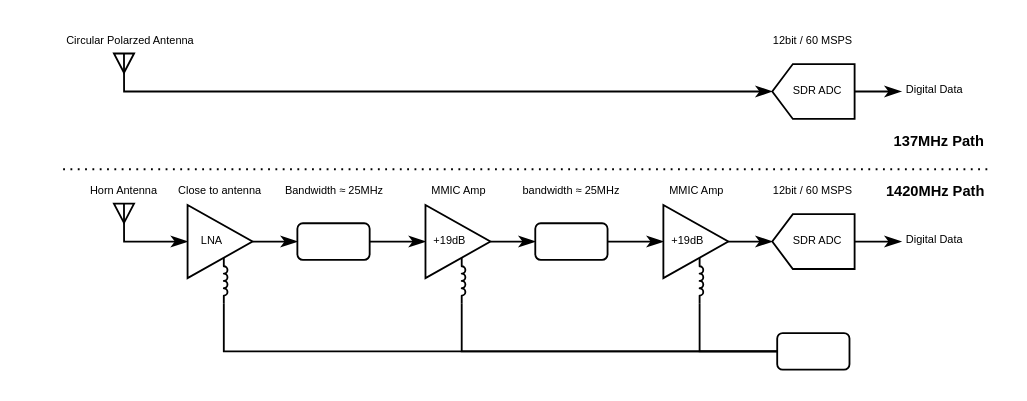
The diagram is 1027 pixels wide and 401 high, and some of its shapes have lost their labels. Each missing label, with the centre of its shape:
"BPF ≈" belongs at pixel 570 240.
"EQ Filter ≈" belongs at pixel 333 240.
"Power Supply" belongs at pixel 812 350.
